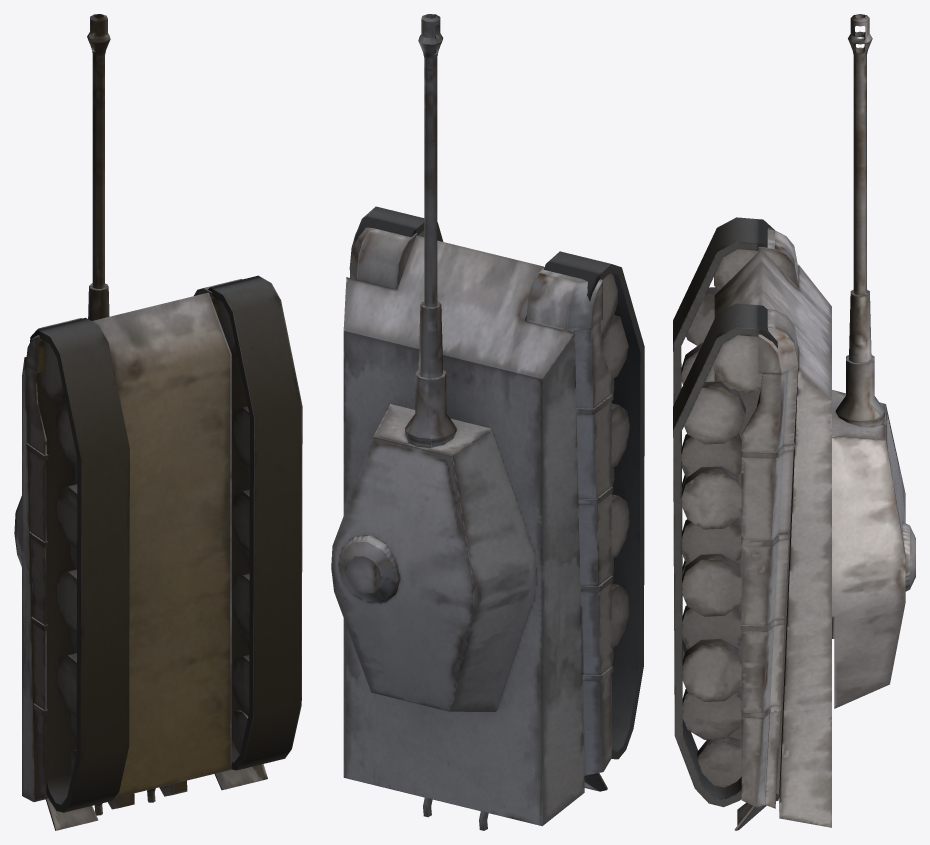
The picture shows the model from 3 angles, left to right: view 1: azimuth 30°, elevation 25°; view 2: azimuth 150°, elevation 25°; view 3: azimuth 270°, elevation 25°; orthographic projection. The views are drawn at different scales.
Visible parts, largest first — view 1: VK4503H Body, VK4503H Turret; view 2: VK4503H Body, VK4503H Turret; view 3: VK4503H Body, VK4503H Turret.
Boxes of the visible parts, x1,y1,x2,y2 form: VK4503H Body: (22,275,302,830); VK4503H Turret: (14,14,110,566); VK4503H Body: (343,206,644,830); VK4503H Turret: (331,14,536,711); VK4503H Body: (673,217,831,830); VK4503H Turret: (832,14,915,708).
Size of the model in its own units: 129 by 418 by 116.
